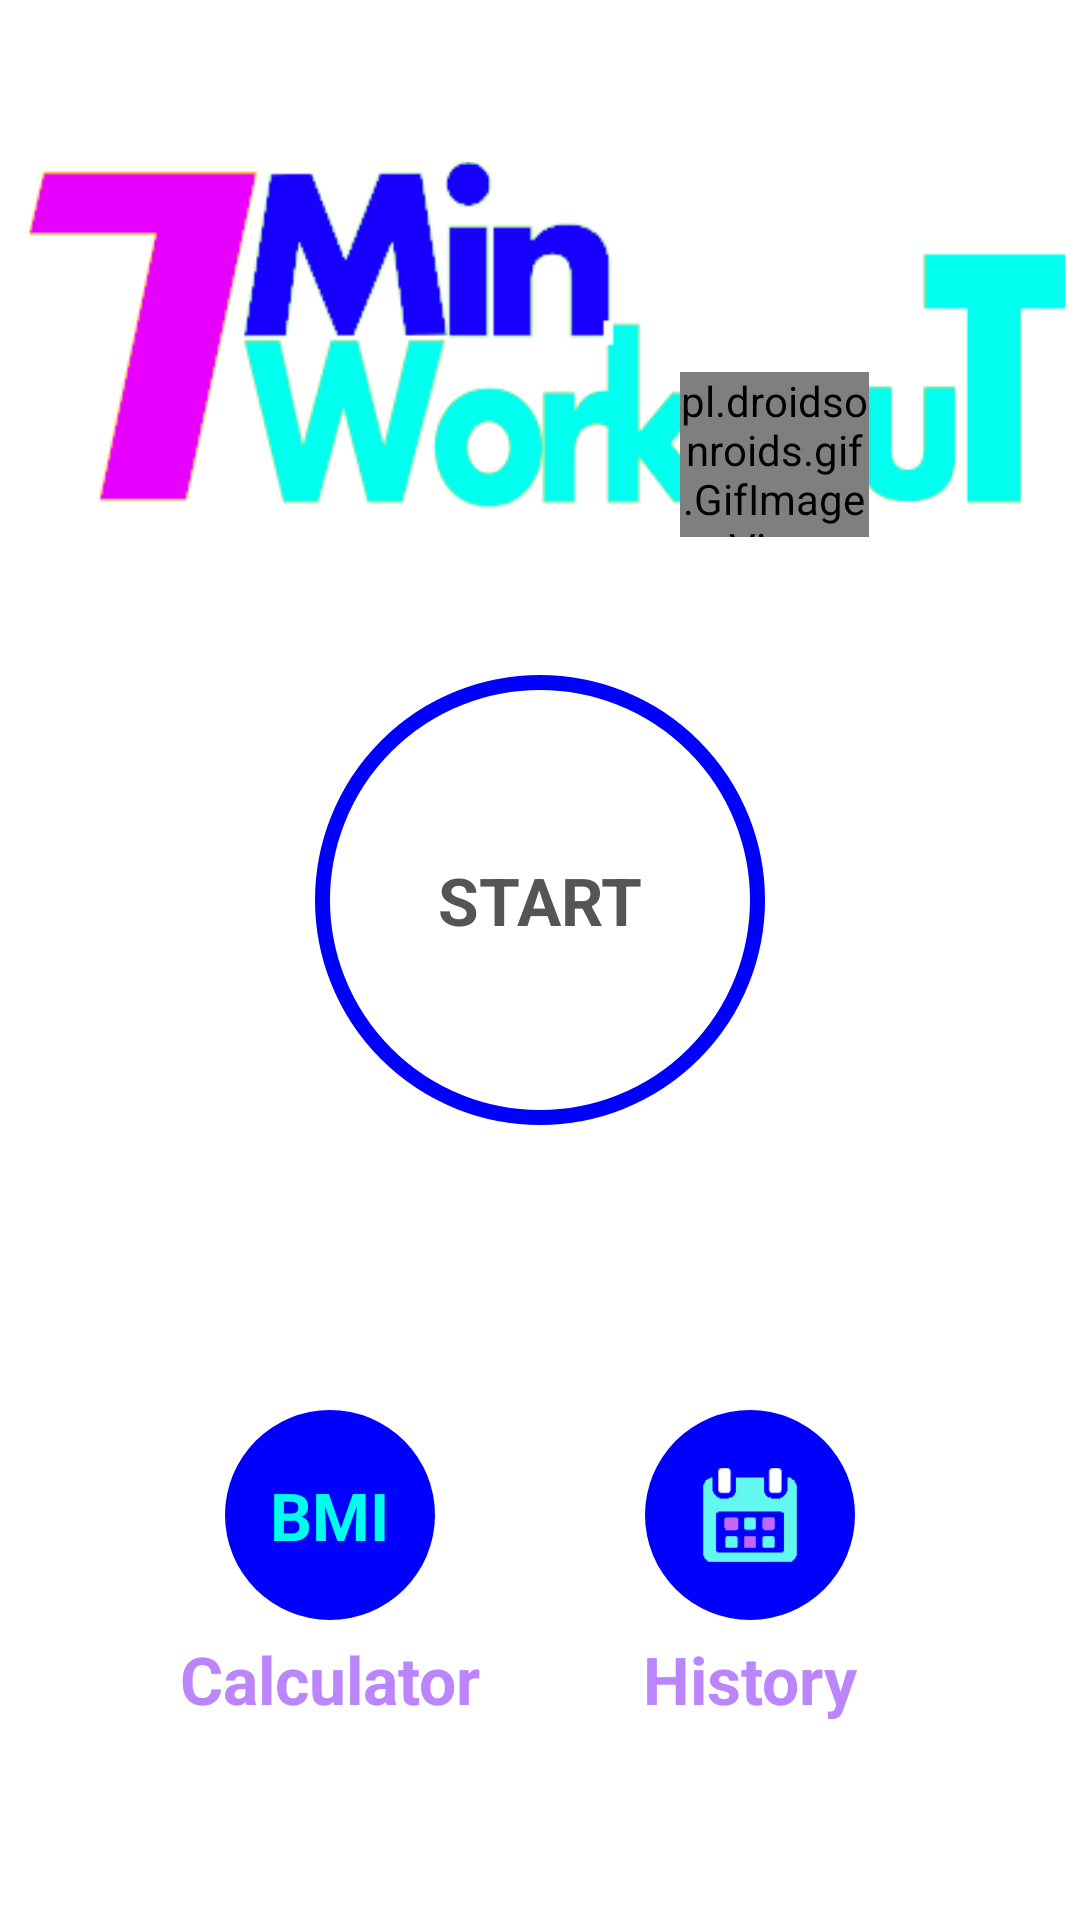

Icon click points for this 1080w x 1920h phone screenshot, format [x,y]:
calendar: [750,1515]
